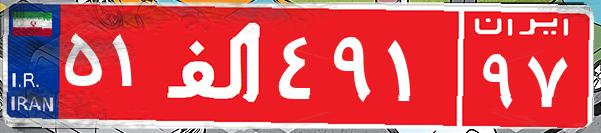1: (385, 28, 445, 110), (110, 28, 158, 105)
4: (273, 28, 330, 110)
5: (57, 26, 110, 107)
7: (525, 38, 570, 115)
9: (330, 28, 385, 110), (475, 38, 525, 113)
الف: (158, 15, 273, 115)
